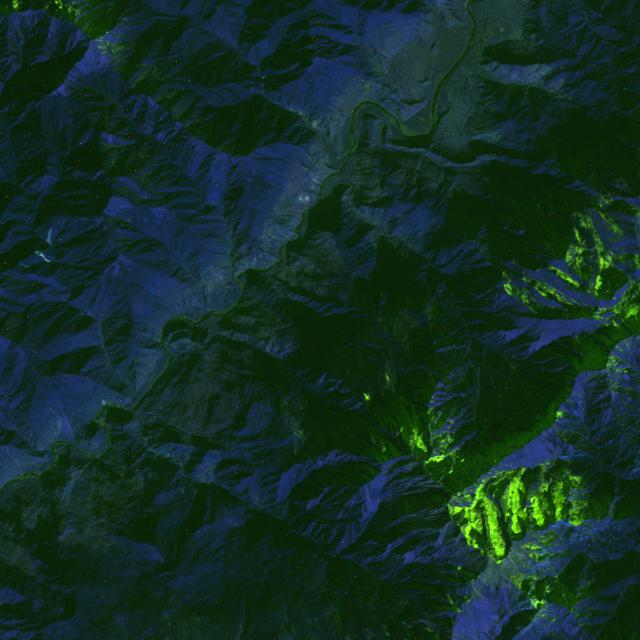landslides: (473, 91, 502, 117), (437, 102, 463, 121), (505, 358, 522, 387), (425, 293, 446, 315), (585, 353, 606, 374), (6, 446, 21, 474), (269, 108, 288, 129), (12, 446, 26, 471), (82, 361, 110, 371), (50, 408, 61, 433), (470, 583, 484, 601), (593, 347, 610, 361), (537, 608, 556, 620), (570, 429, 587, 442), (611, 348, 627, 361), (628, 317, 640, 334), (619, 322, 632, 337), (616, 341, 628, 356), (422, 267, 433, 282), (39, 253, 55, 263), (428, 314, 435, 334), (505, 93, 511, 116), (466, 600, 473, 619), (73, 312, 85, 322), (622, 339, 632, 351), (46, 227, 52, 244)
